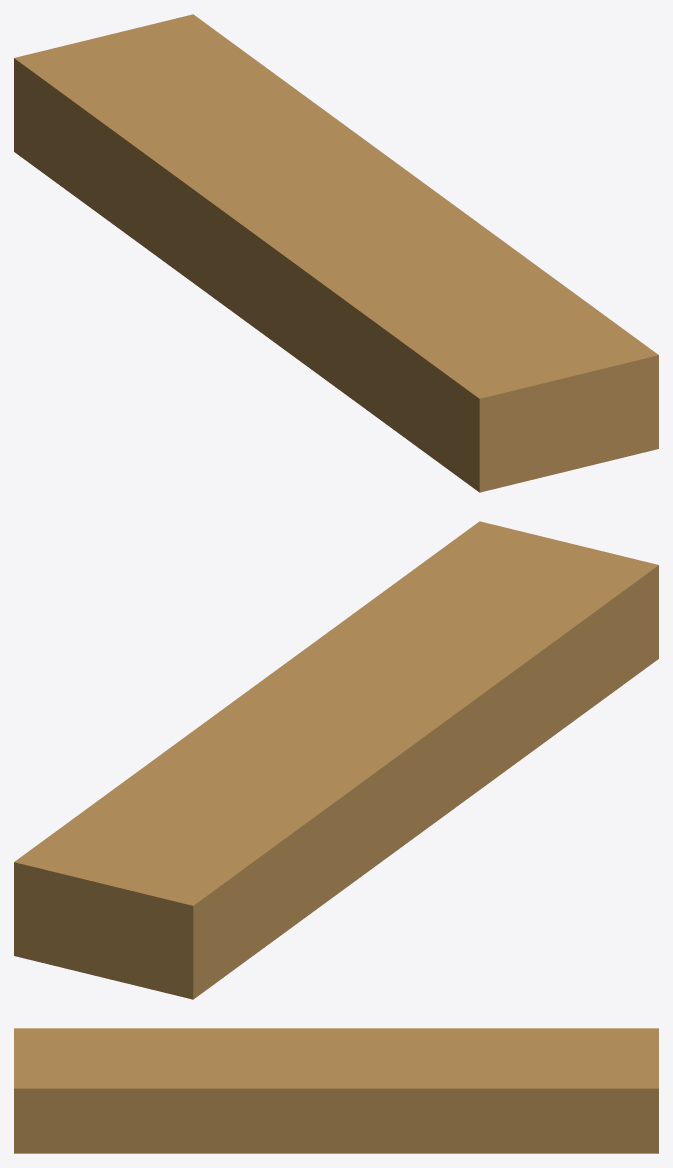
3 renders of one model, top to bottom at view 1: azimuth 30°, elevation 25°; view 2: azimuth 150°, elevation 25°; view 3: azimuth 270°, elevation 25°, orthographic. The views are drawn at different scales.
Visible parts, largest first — view 1: RUN-093-S01-NOG-02; view 2: RUN-093-S01-NOG-02; view 3: RUN-093-S01-NOG-02.
Boxes of the visible parts, x1,y1,x2,y2 form: RUN-093-S01-NOG-02: [14, 14, 658, 492]; RUN-093-S01-NOG-02: [14, 521, 658, 999]; RUN-093-S01-NOG-02: [14, 1028, 658, 1153].
Bounding box in the file's own units: 0.09 × 0.045 × 0.405.
